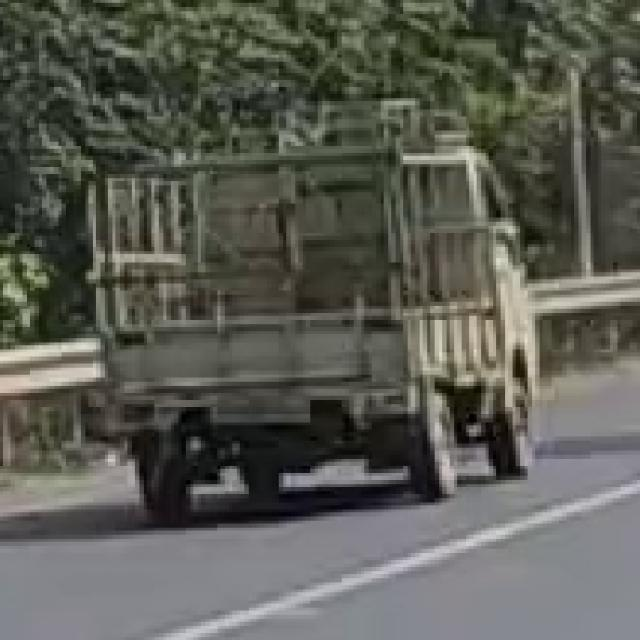minitruck: (77, 120, 556, 530)
